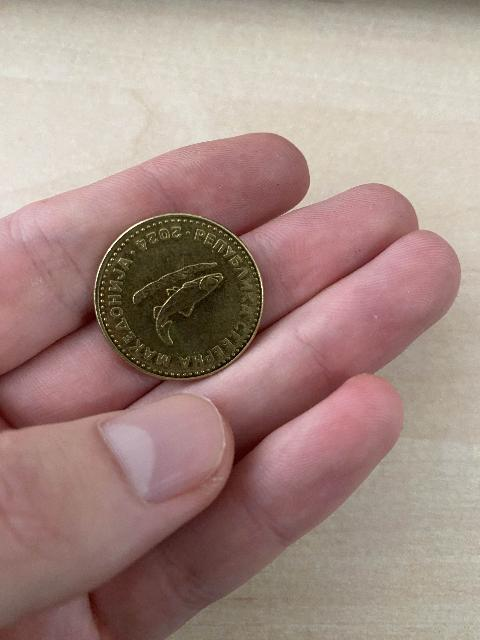coin: (95, 214, 263, 379)
